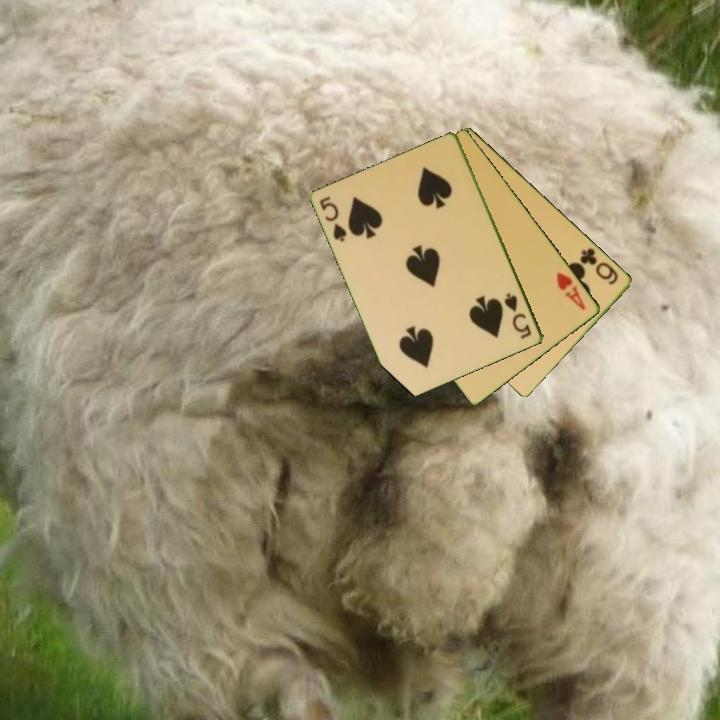5s: (501, 289, 535, 342), (316, 193, 350, 245)
6c: (577, 244, 622, 288)
Ah: (553, 268, 589, 313)
